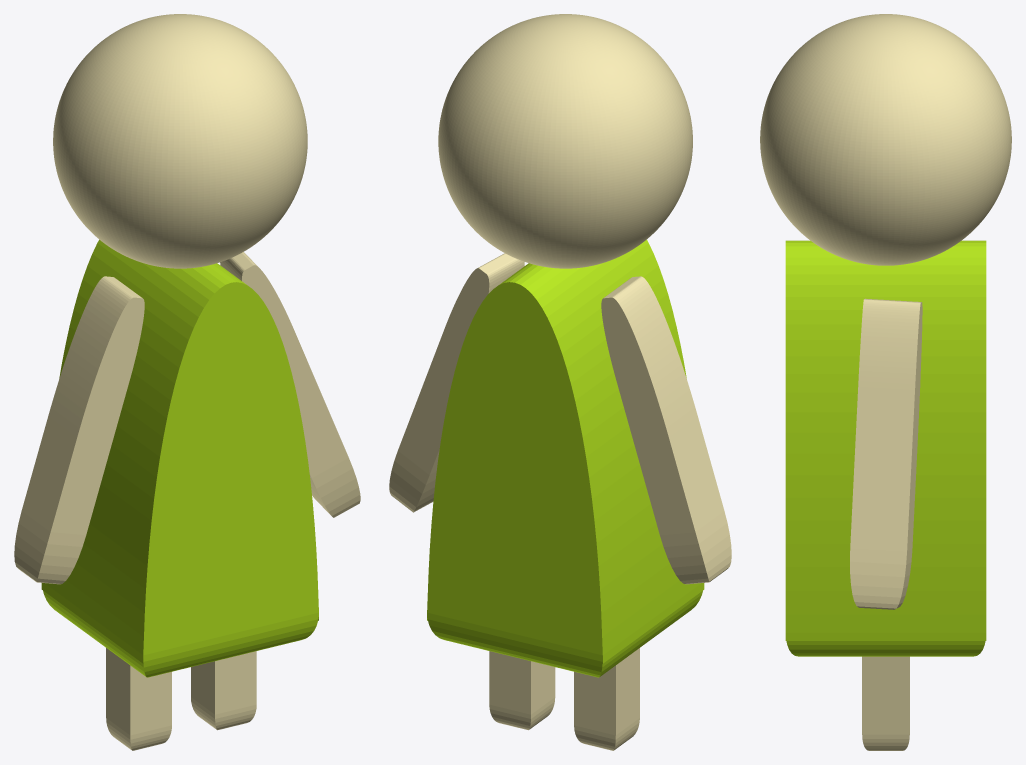
The model's file is monomaner.glb.
3 renders of one model, left to right at view 1: azimuth 30°, elevation 25°; view 2: azimuth 150°, elevation 25°; view 3: azimuth 270°, elevation 25°, orthographic.
Visible parts, largest first — view 1: Cube, Sphere, Cube.003, Cube.004, Cube.002, Cube.001; view 2: Cube, Sphere, Cube.003, Cube.004, Cube.002, Cube.001; view 3: Cube, Sphere, Cube.004, Cube.001.
Boxes of the visible parts, box(x1,y1,x2,y2) form: Cube: box(41, 239, 318, 677); Sphere: box(53, 14, 307, 268); Cube.003: box(14, 276, 144, 584); Cube.004: box(220, 252, 360, 517); Cube.002: box(106, 648, 171, 750); Cube.001: box(191, 651, 256, 730); Cube: box(427, 239, 704, 677); Sphere: box(438, 14, 692, 268); Cube.003: box(601, 276, 731, 584); Cube.004: box(389, 253, 524, 512); Cube.002: box(574, 648, 639, 750); Cube.001: box(489, 651, 555, 730); Cube: box(785, 240, 986, 656); Sphere: box(760, 14, 1011, 265); Cube.004: box(850, 298, 922, 609); Cube.001: box(862, 656, 909, 750).
Size of the model in its own units: 1.41 by 2.93 by 0.9592.
Materials: 3 (3 with a texture image).
